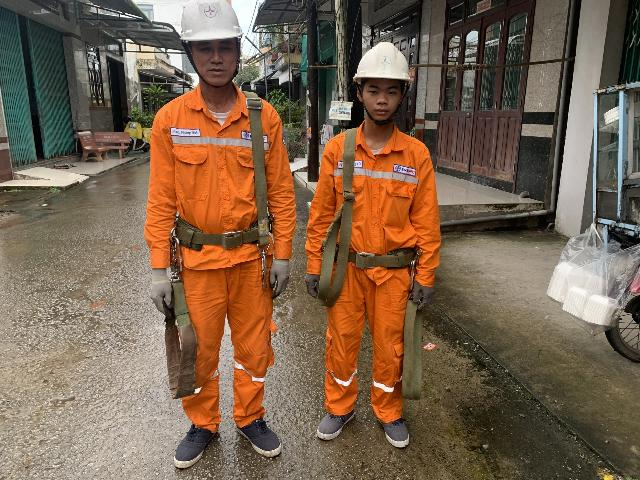gloves: (147, 268, 180, 320), (408, 274, 447, 316), (300, 264, 336, 304), (266, 253, 296, 296)
harness: (168, 213, 275, 252), (329, 242, 432, 276)
helmet: (166, 0, 281, 55), (351, 34, 420, 94)
shoes: (162, 417, 232, 467), (228, 412, 292, 457), (305, 396, 362, 443), (375, 411, 422, 451)
